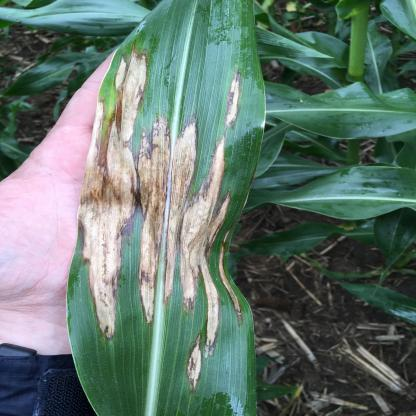corn leaf blight: (81, 1, 260, 416)
